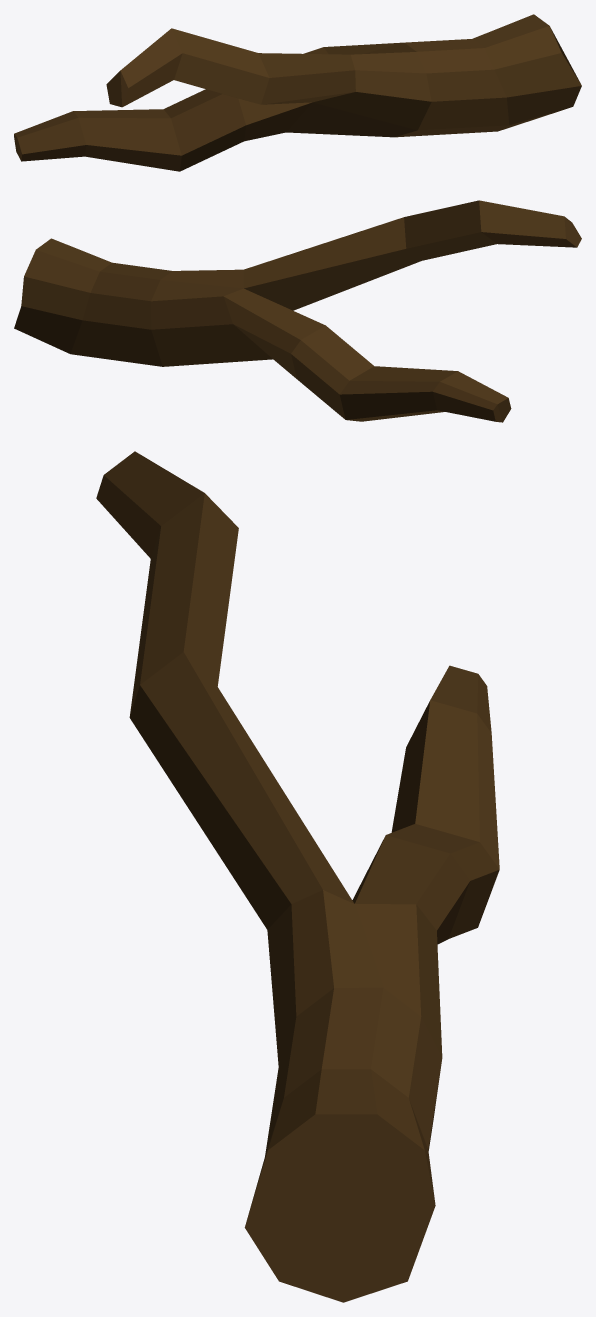
The model's file is branche3-path_of-matches.fbx.
The picture shows the model from 3 angles, top to bottom: view 1: azimuth 30°, elevation 25°; view 2: azimuth 150°, elevation 25°; view 3: azimuth 270°, elevation 25°; orthographic projection. The views are drawn at different scales.
Parts seen in each view (by area): view 1: Cylinder.004; view 2: Cylinder.004; view 3: Cylinder.004.
Boxes of the visible parts, x1=… form: Cylinder.004: x1=14, y1=14, x2=581, y2=171; Cylinder.004: x1=14, y1=200, x2=581, y2=422; Cylinder.004: x1=96, y1=451, x2=499, y2=1302.
Bounding box in the file's own units: 259 × 105 × 89.77.
